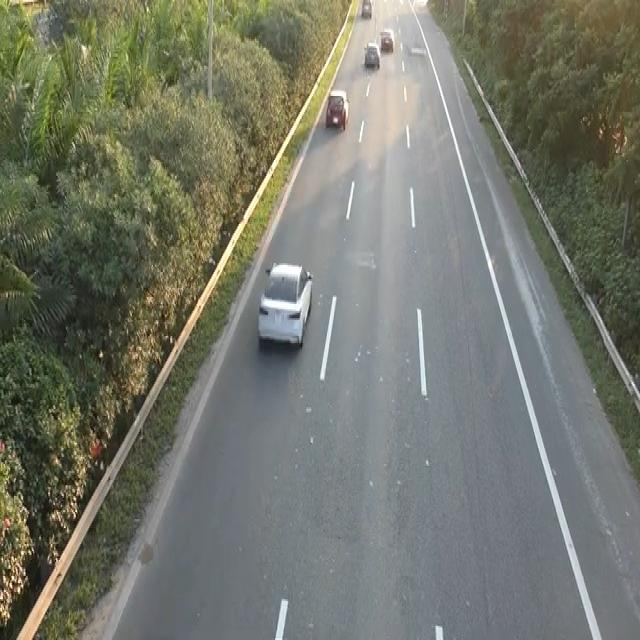bus: (255, 258, 316, 356), (324, 87, 349, 130)
